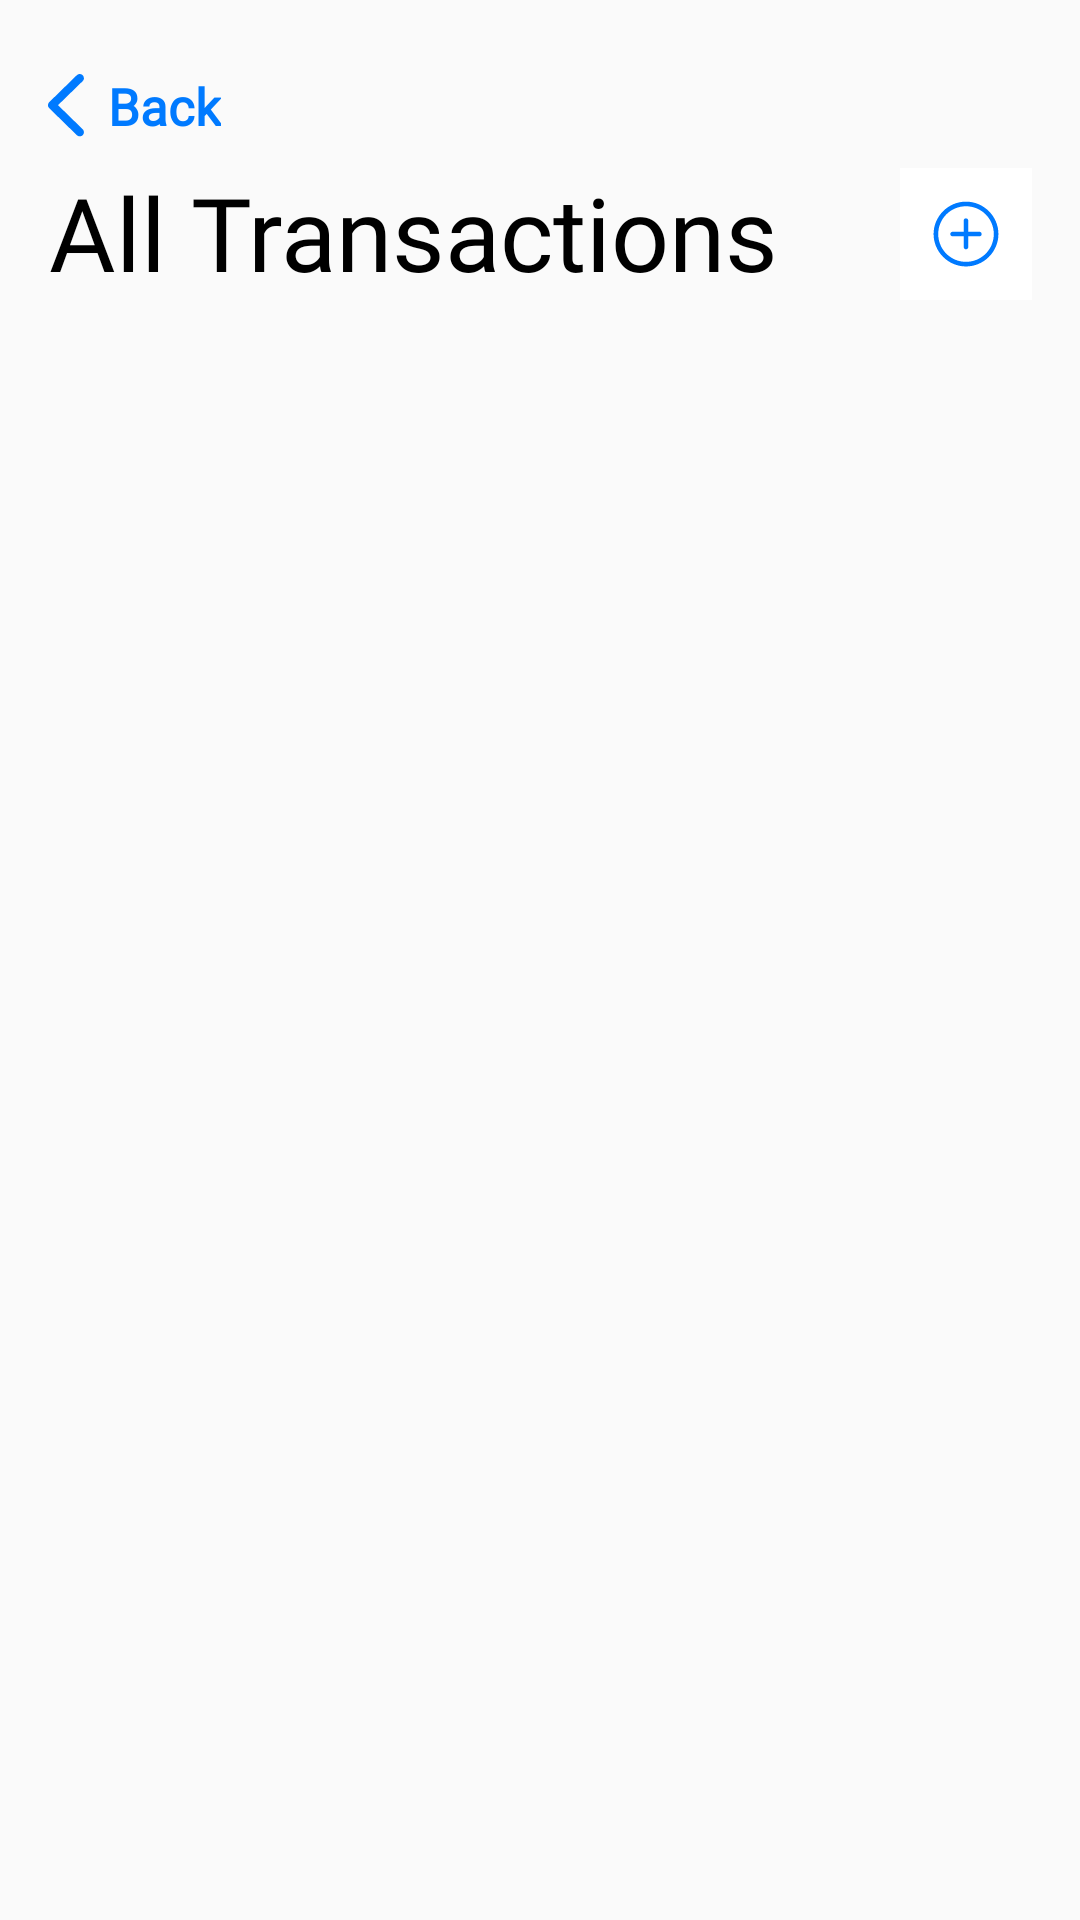

Screen size 1080w x 1920h. Icon name, then its center in pixels as [x,y]:
plus: [966,234]
